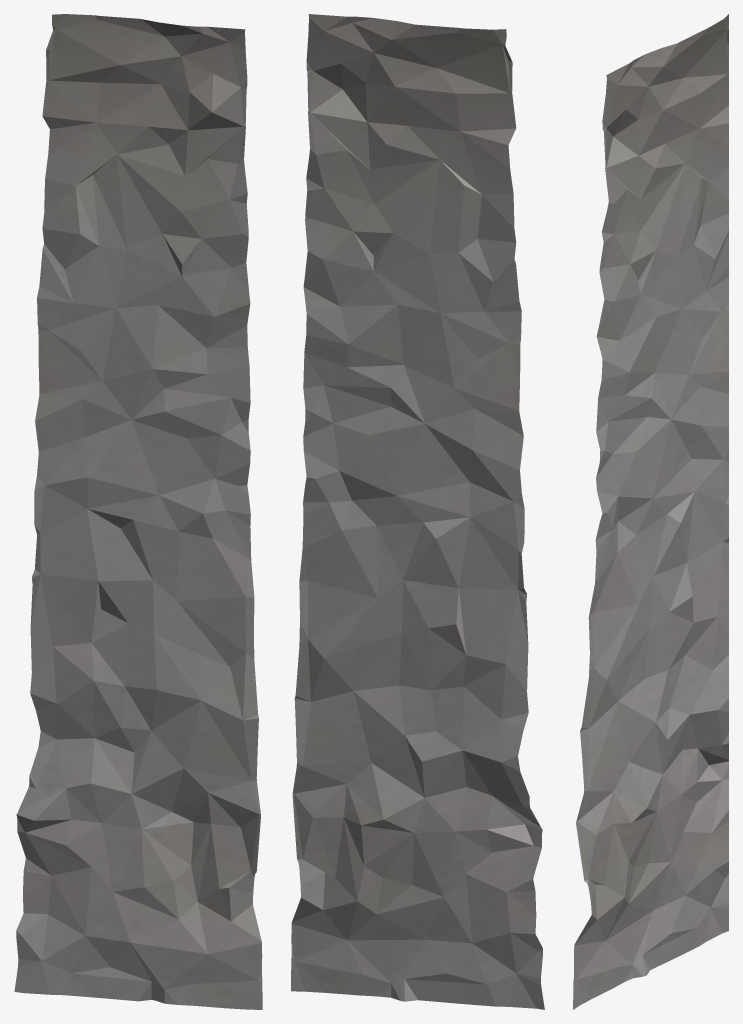
3 renders of one model, left to right at view 1: azimuth 30°, elevation 25°; view 2: azimuth 210°, elevation 25°; view 3: azimuth 270°, elevation 25°, orthographic. The views are drawn at different scales.
Size of the model in its own units: 0.1516 by 0.8373 by 0.1265.
Materials: 1 (1 with a texture image).
